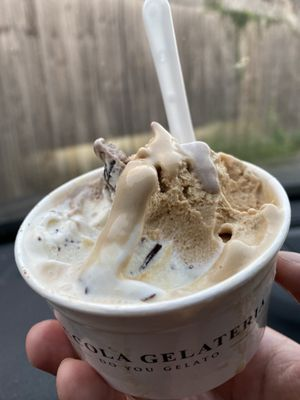sushi: (13, 123, 292, 398)
